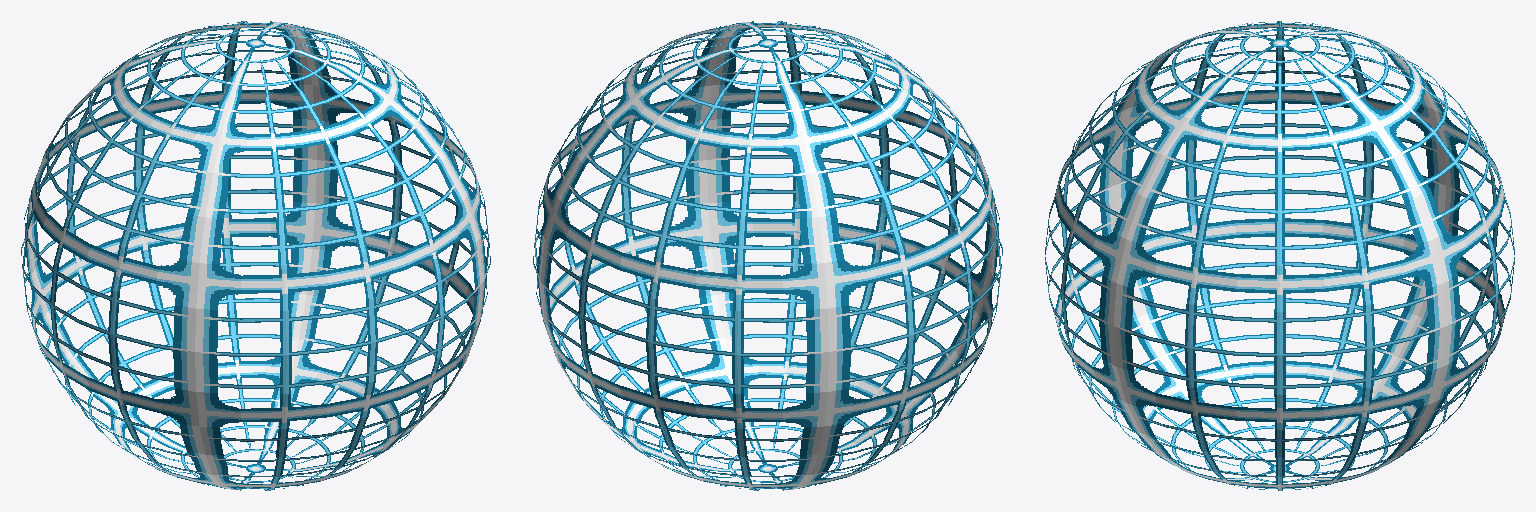
3 renders of one model, left to right at view 1: azimuth 30°, elevation 25°; view 2: azimuth 150°, elevation 25°; view 3: azimuth 270°, elevation 25°, orthographic.
Visible parts, largest first — view 1: Sphere; view 2: Sphere; view 3: Sphere.
Boxes of the visible parts, box(x1,y1,x2,y2) form: Sphere: box(21, 21, 490, 490); Sphere: box(533, 21, 1002, 490); Sphere: box(1045, 21, 1514, 490).
Size of the model in its own units: 2.02 by 2.02 by 2.02.
1 materials, 1 textured.